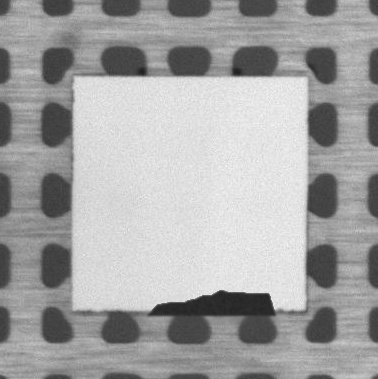DIE_BROKEN: (146, 290, 281, 317)
